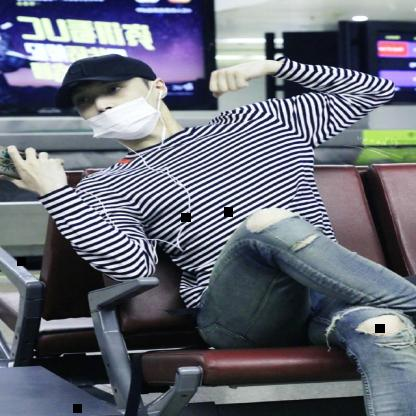mask: (56, 50, 180, 146)
